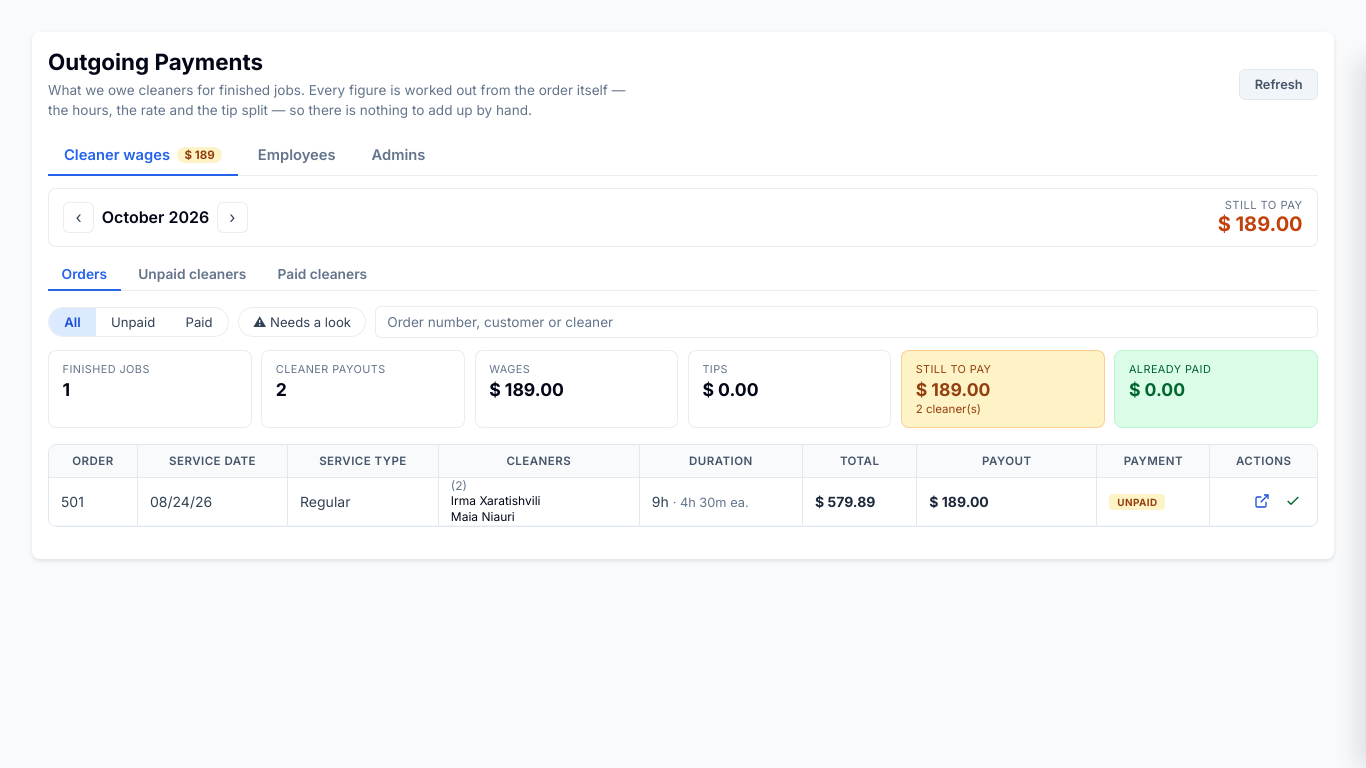
Test: OutgoingPaymentsComponent › the slide-in panel › opens on the clicked order and shows the full breakdown
The width and height of the screenshot is (1366, 768).
Click the row that starts with "Regular". click: [683, 502]
box: [49,478,1317,526]
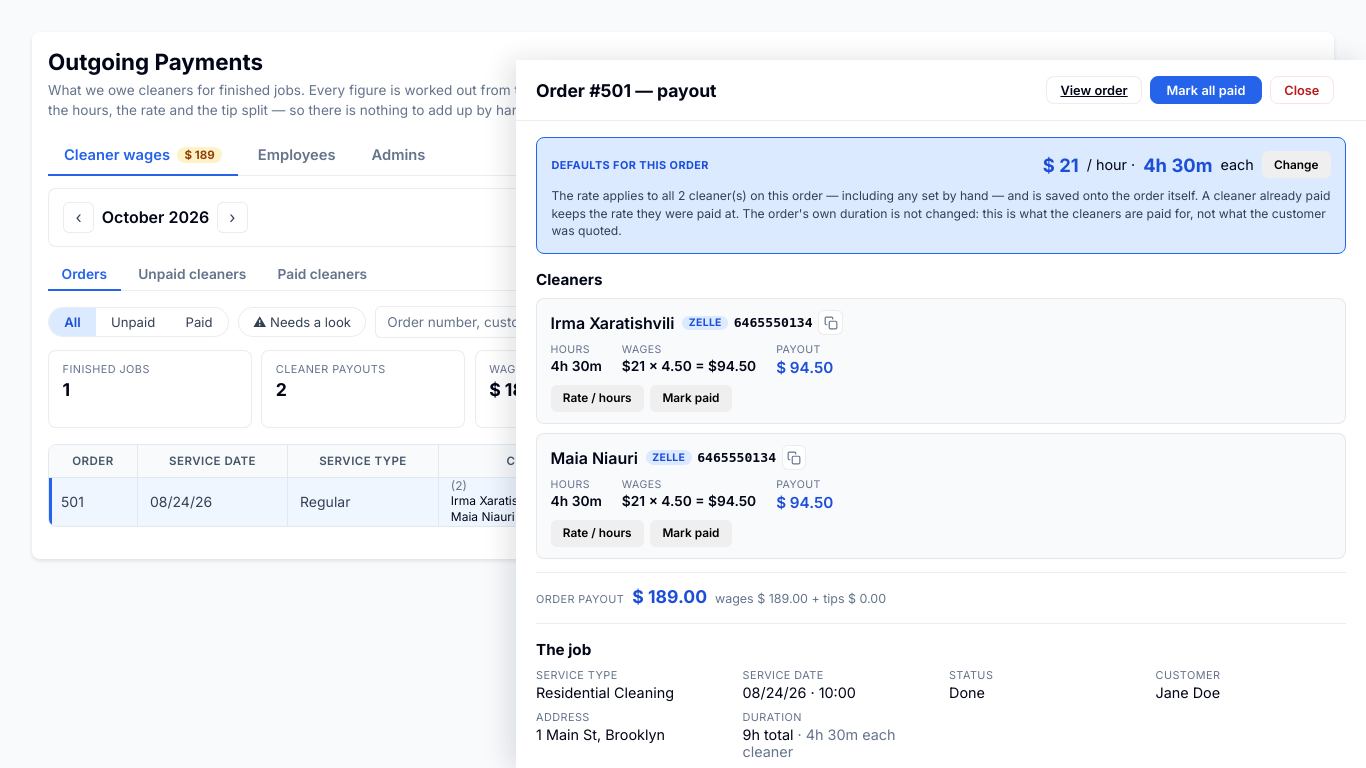
Now the element with class "open" is shown, box [516,60,1365,767]
Now the element with class "open" shows "$21 × 4.50 = $94.50", box [622,358,756,374]
